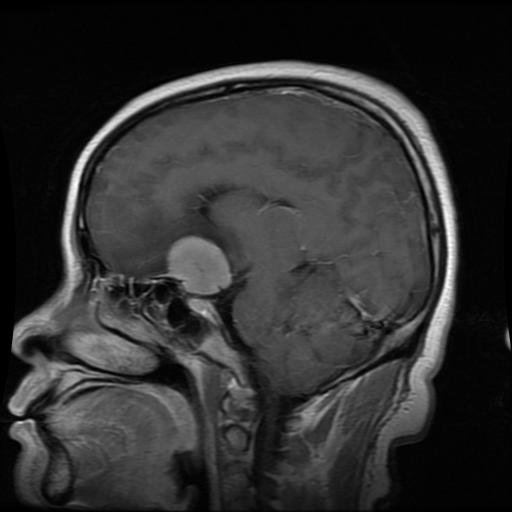Menigiomia_tumour: (165, 232, 232, 293)
